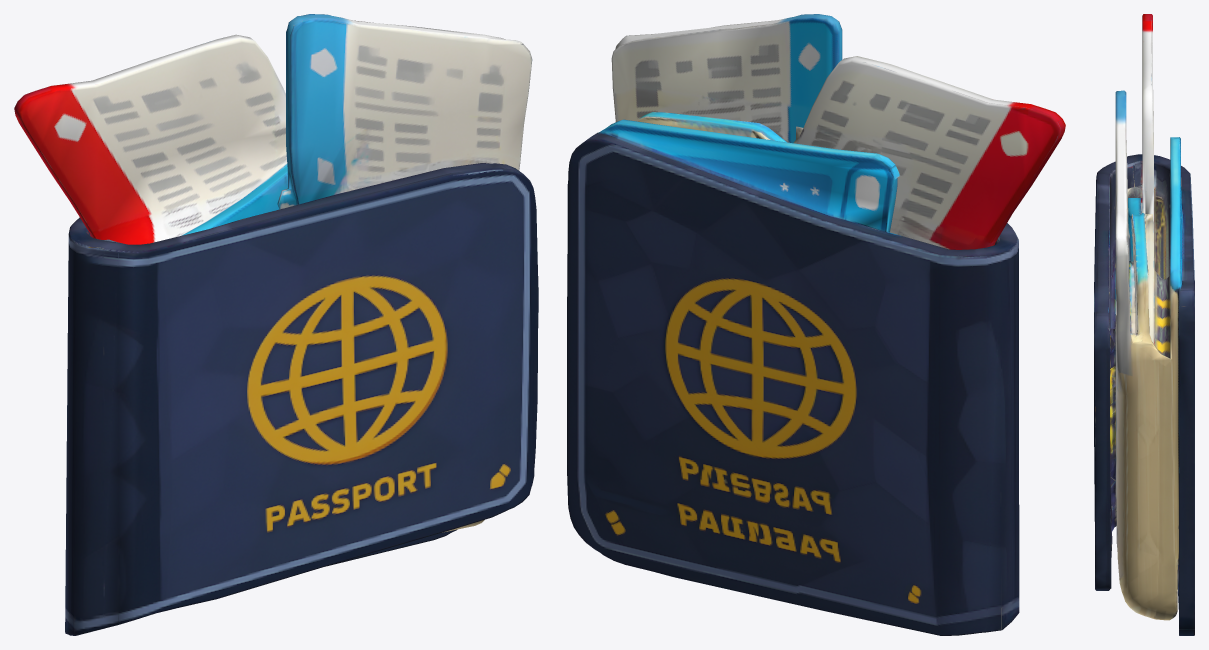
Rendered from Pasport_0227101503_texture.fbx.
3 renders of one model, left to right at view 1: azimuth 30°, elevation 25°; view 2: azimuth 150°, elevation 25°; view 3: azimuth 270°, elevation 25°, orthographic. The views are drawn at different scales.
Parts seen in each view (by area): view 1: Mesh_0; view 2: Mesh_0; view 3: Mesh_0.
Part boxes in pixels (x1,y1,x2,y2): Mesh_0: (14, 14, 538, 635); Mesh_0: (567, 14, 1065, 635); Mesh_0: (1094, 14, 1194, 635).
Bounding box in the file's own units: 168 × 191 × 36.79.
1 material, 1 textured.
